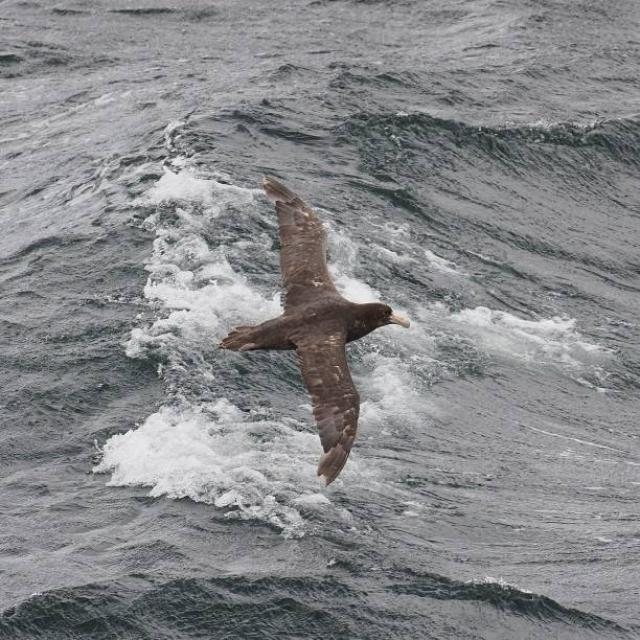delfin: (220, 176, 409, 483)
